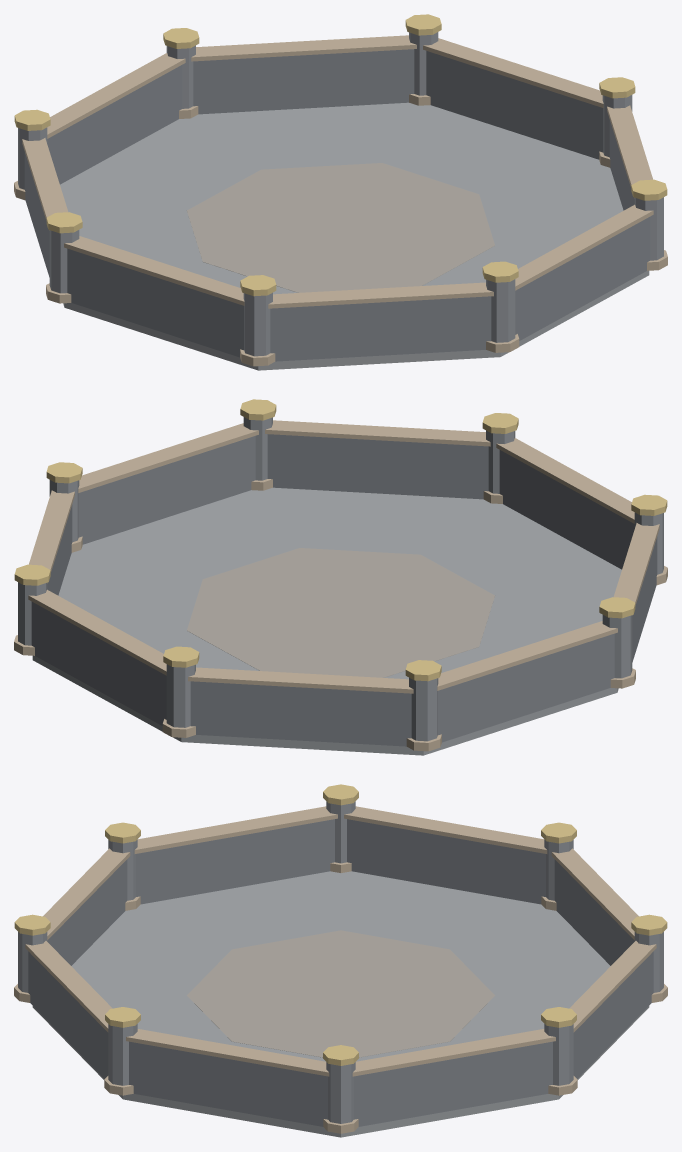
Rendered from arena.glb.
The picture shows the model from 3 angles, top to bottom: view 1: azimuth 30°, elevation 25°; view 2: azimuth 150°, elevation 25°; view 3: azimuth 270°, elevation 25°; orthographic projection. The views are drawn at different scales.
Parts seen in each view (by area): view 1: Arena_Floor, Arena_InnerRing, Arena_Wall_6, Arena_Wall_2, Arena_Wall_1, Arena_Wall_5, Arena_Wall_7, Arena_Wall_3, Arena_WallTrim_6, Arena_WallTrim_2, Arena_WallTrim_1, Arena_WallTrim_5 (+22 smaller); view 2: Arena_Floor, Arena_InnerRing, Arena_Wall_3, Arena_Wall_7, Arena_Wall_8, Arena_Wall_4, Arena_Wall_2, Arena_Wall_6, Arena_WallTrim_3, Arena_WallTrim_7, Arena_WallTrim_8, Arena_WallTrim_4 (+22 smaller); view 3: Arena_Floor, Arena_InnerRing, Arena_Wall_1, Arena_Wall_8, Arena_Wall_4, Arena_Wall_5, Arena_Wall_2, Arena_Wall_7, Arena_Wall_3, Arena_Wall_6, Arena_WallTrim_1, Arena_WallTrim_4 (+22 smaller).
Part boxes in pixels (bbox=[...]): Arena_Floor: bbox=[60, 102, 649, 370]; Arena_InnerRing: bbox=[187, 163, 494, 292]; Arena_Wall_6: bbox=[270, 296, 491, 361]; Arena_Wall_2: bbox=[193, 49, 414, 114]; Arena_Wall_1: bbox=[426, 51, 603, 159]; Arena_Wall_5: bbox=[67, 248, 244, 357]; Arena_Wall_7: bbox=[515, 217, 650, 340]; Arena_Wall_3: bbox=[47, 65, 182, 184]; Arena_WallTrim_6: bbox=[268, 282, 493, 308]; Arena_WallTrim_2: bbox=[191, 35, 416, 61]; Arena_WallTrim_1: bbox=[423, 38, 603, 107]; Arena_WallTrim_5: bbox=[64, 236, 244, 305]; Arena_Floor: bbox=[32, 487, 621, 755]; Arena_InnerRing: bbox=[187, 548, 494, 677]; Arena_Wall_3: bbox=[190, 681, 411, 746]; Arena_Wall_7: bbox=[267, 434, 488, 499]; Arena_Wall_8: bbox=[78, 436, 255, 544]; Arena_Wall_4: bbox=[437, 633, 614, 742]; Arena_Wall_2: bbox=[31, 602, 166, 725]; Arena_Wall_6: bbox=[499, 450, 634, 569]; Arena_WallTrim_3: bbox=[188, 667, 413, 693]; Arena_WallTrim_7: bbox=[265, 420, 490, 446]; Arena_WallTrim_8: bbox=[78, 423, 258, 492]; Arena_WallTrim_4: bbox=[437, 621, 617, 690]; Arena_Floor: bbox=[32, 871, 649, 1137]; Arena_InnerRing: bbox=[187, 930, 494, 1057]; Arena_Wall_1: bbox=[354, 1041, 552, 1126]; Arena_Wall_8: bbox=[129, 1041, 327, 1126]; Arena_Wall_4: bbox=[347, 819, 545, 904]; Arena_Wall_5: bbox=[136, 819, 334, 904]; Arena_Wall_2: bbox=[573, 951, 653, 1078]; Arena_Wall_7: bbox=[28, 951, 108, 1078]; Arena_Wall_3: bbox=[554, 859, 634, 965]; Arena_Wall_6: bbox=[47, 859, 127, 965]; Arena_WallTrim_1: bbox=[352, 1029, 555, 1076]; Arena_WallTrim_4: bbox=[344, 806, 547, 853].
Size of the model in its own units: 50.9 by 7.3 by 50.9.
